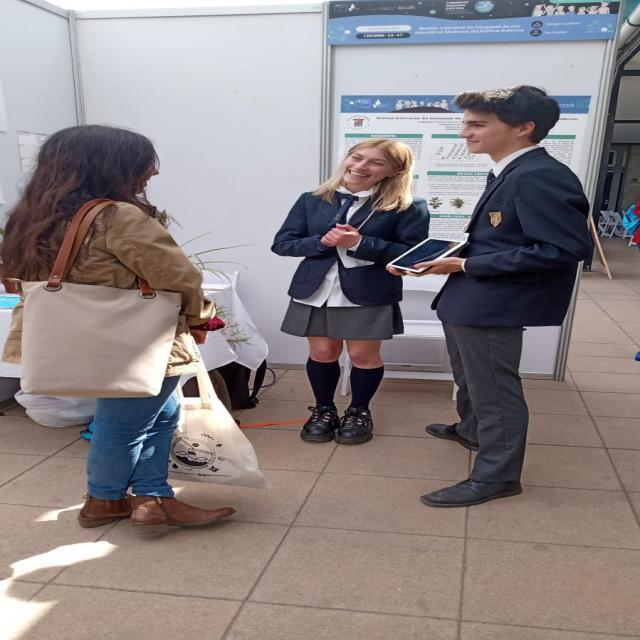person: (0, 121, 294, 550), (434, 69, 622, 518), (268, 128, 414, 452)
